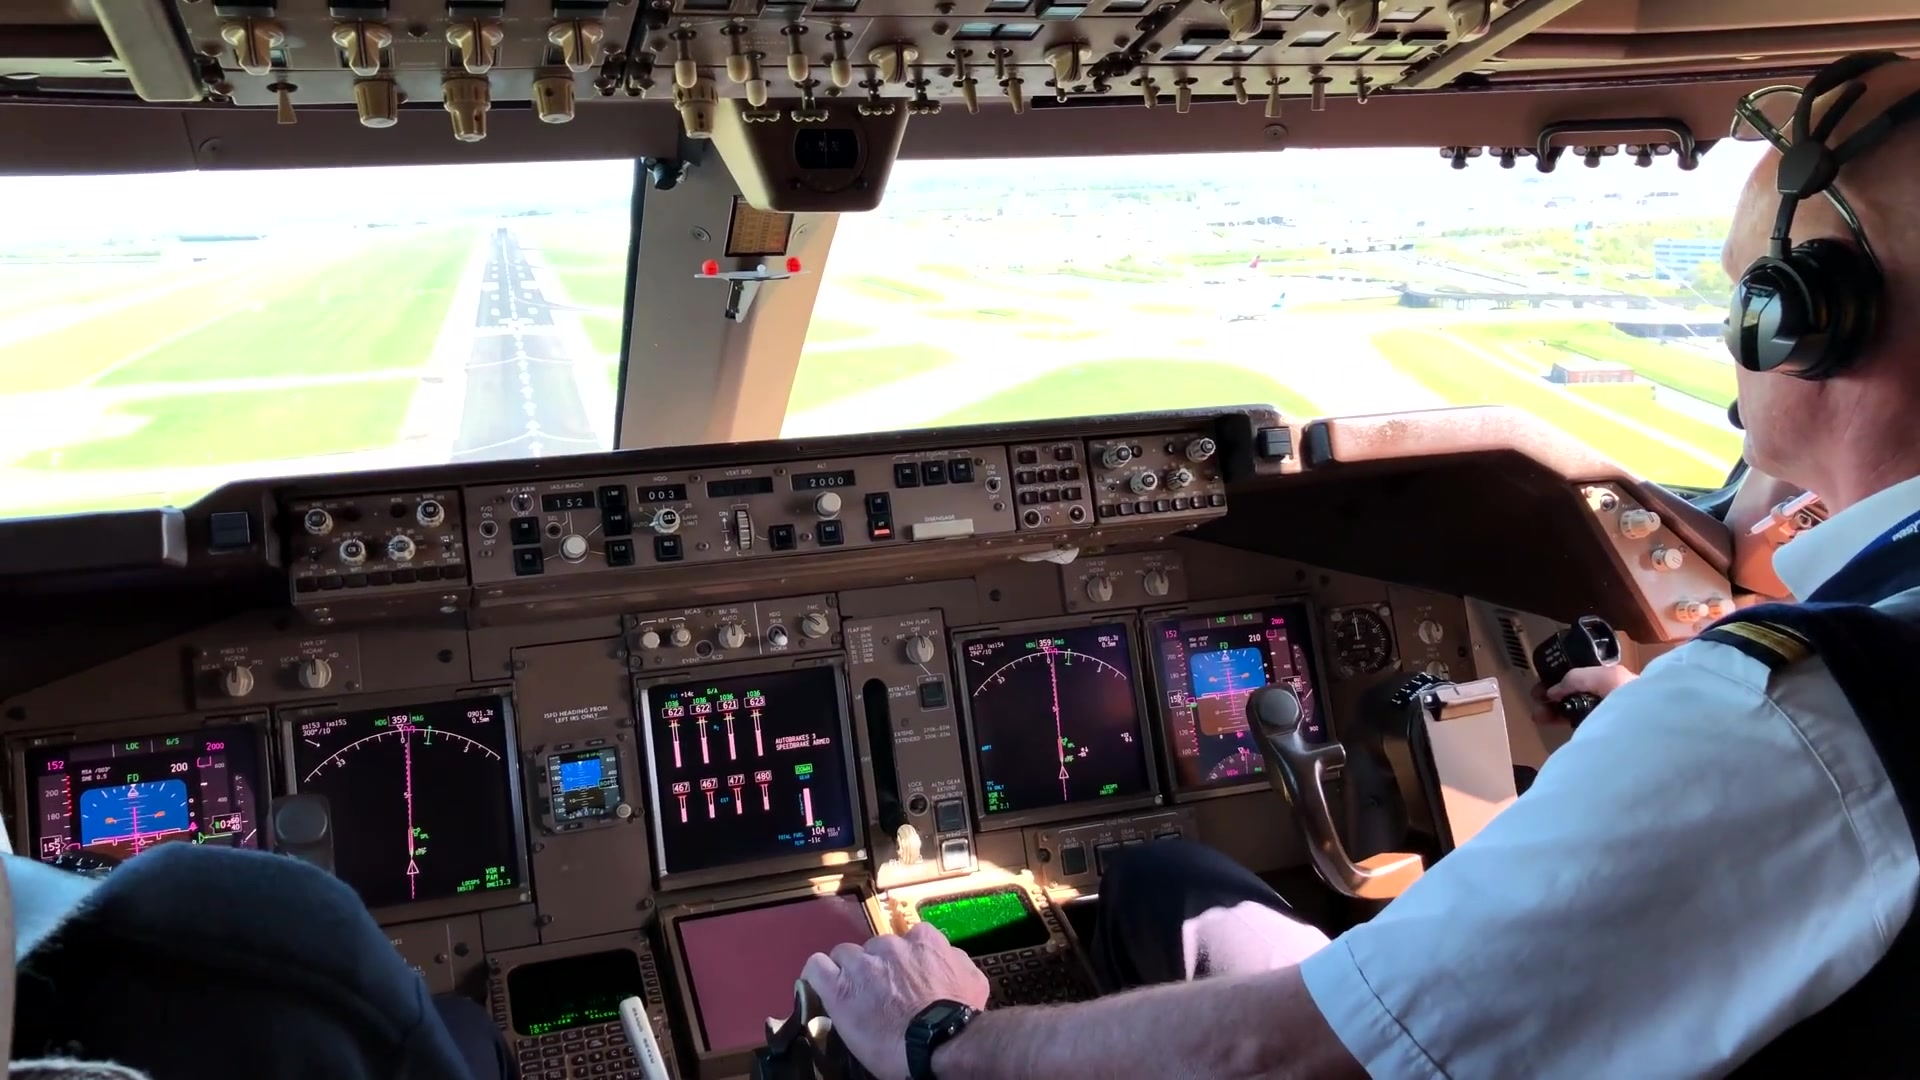runway: (443, 225, 597, 472)
